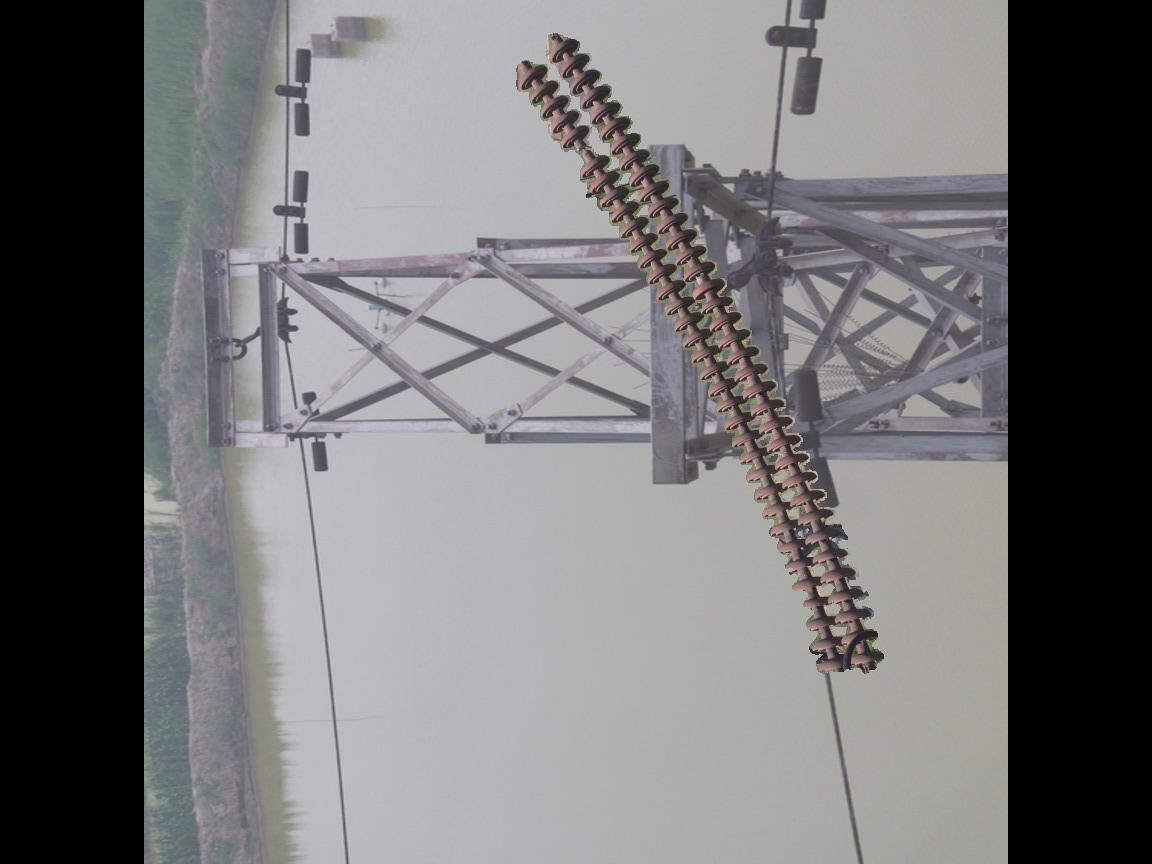insulator: (503, 29, 886, 680)
insulator_stringdrop: (556, 124, 614, 183)
